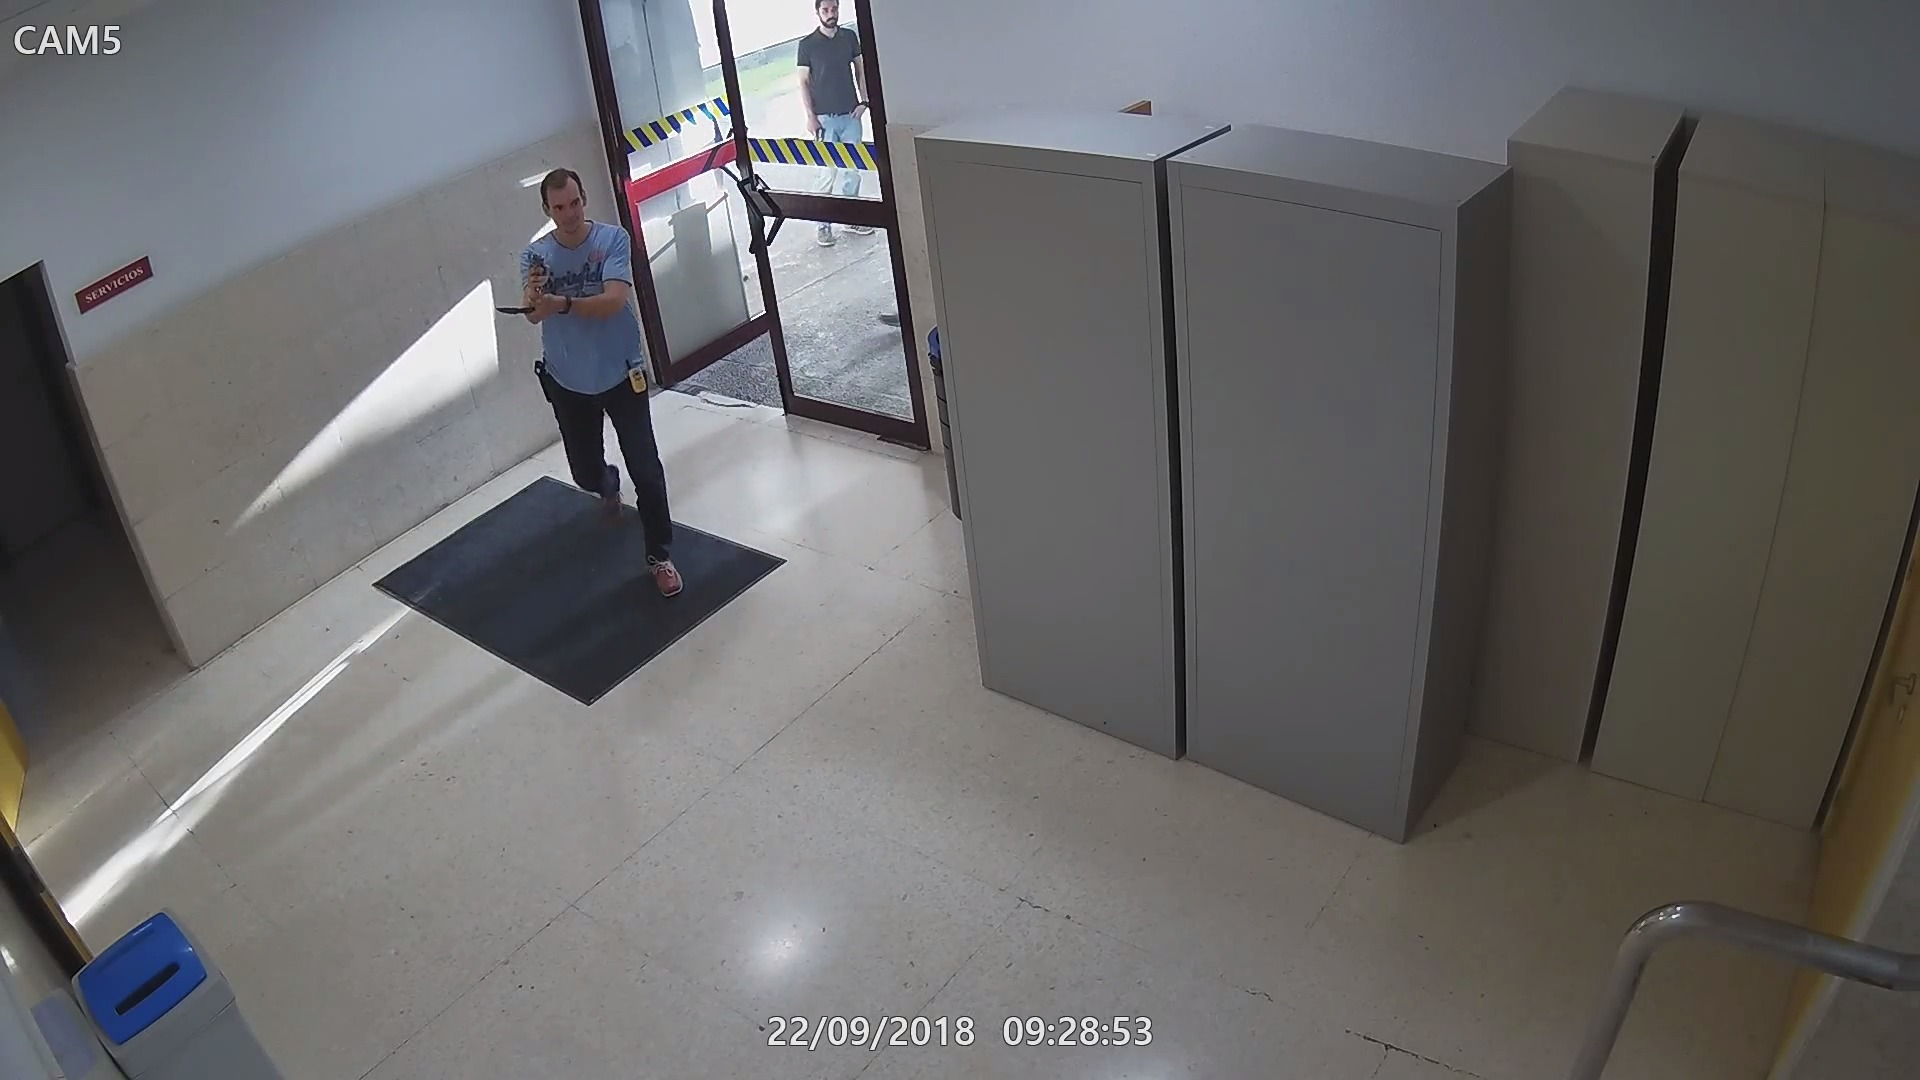Handgun: (517, 255, 560, 295)
Knife: (495, 294, 568, 323)
